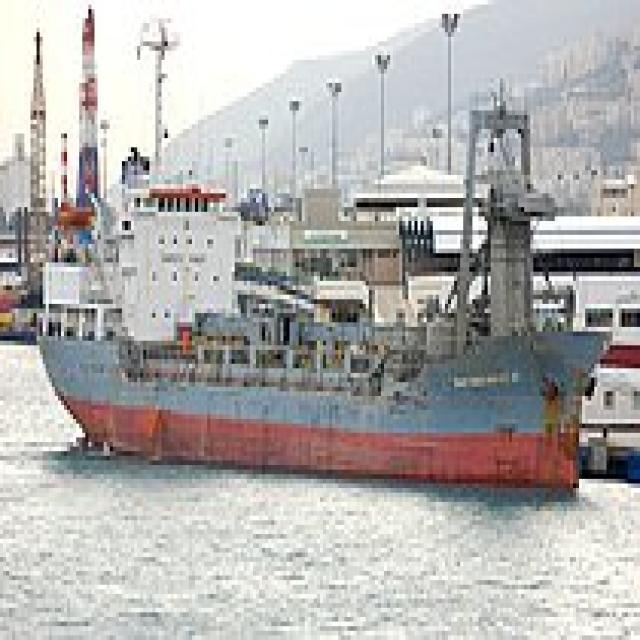Ship: (26, 176, 617, 517)
